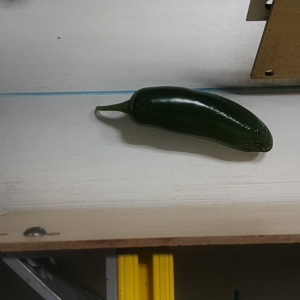Cut Point: (120, 88, 151, 126)
